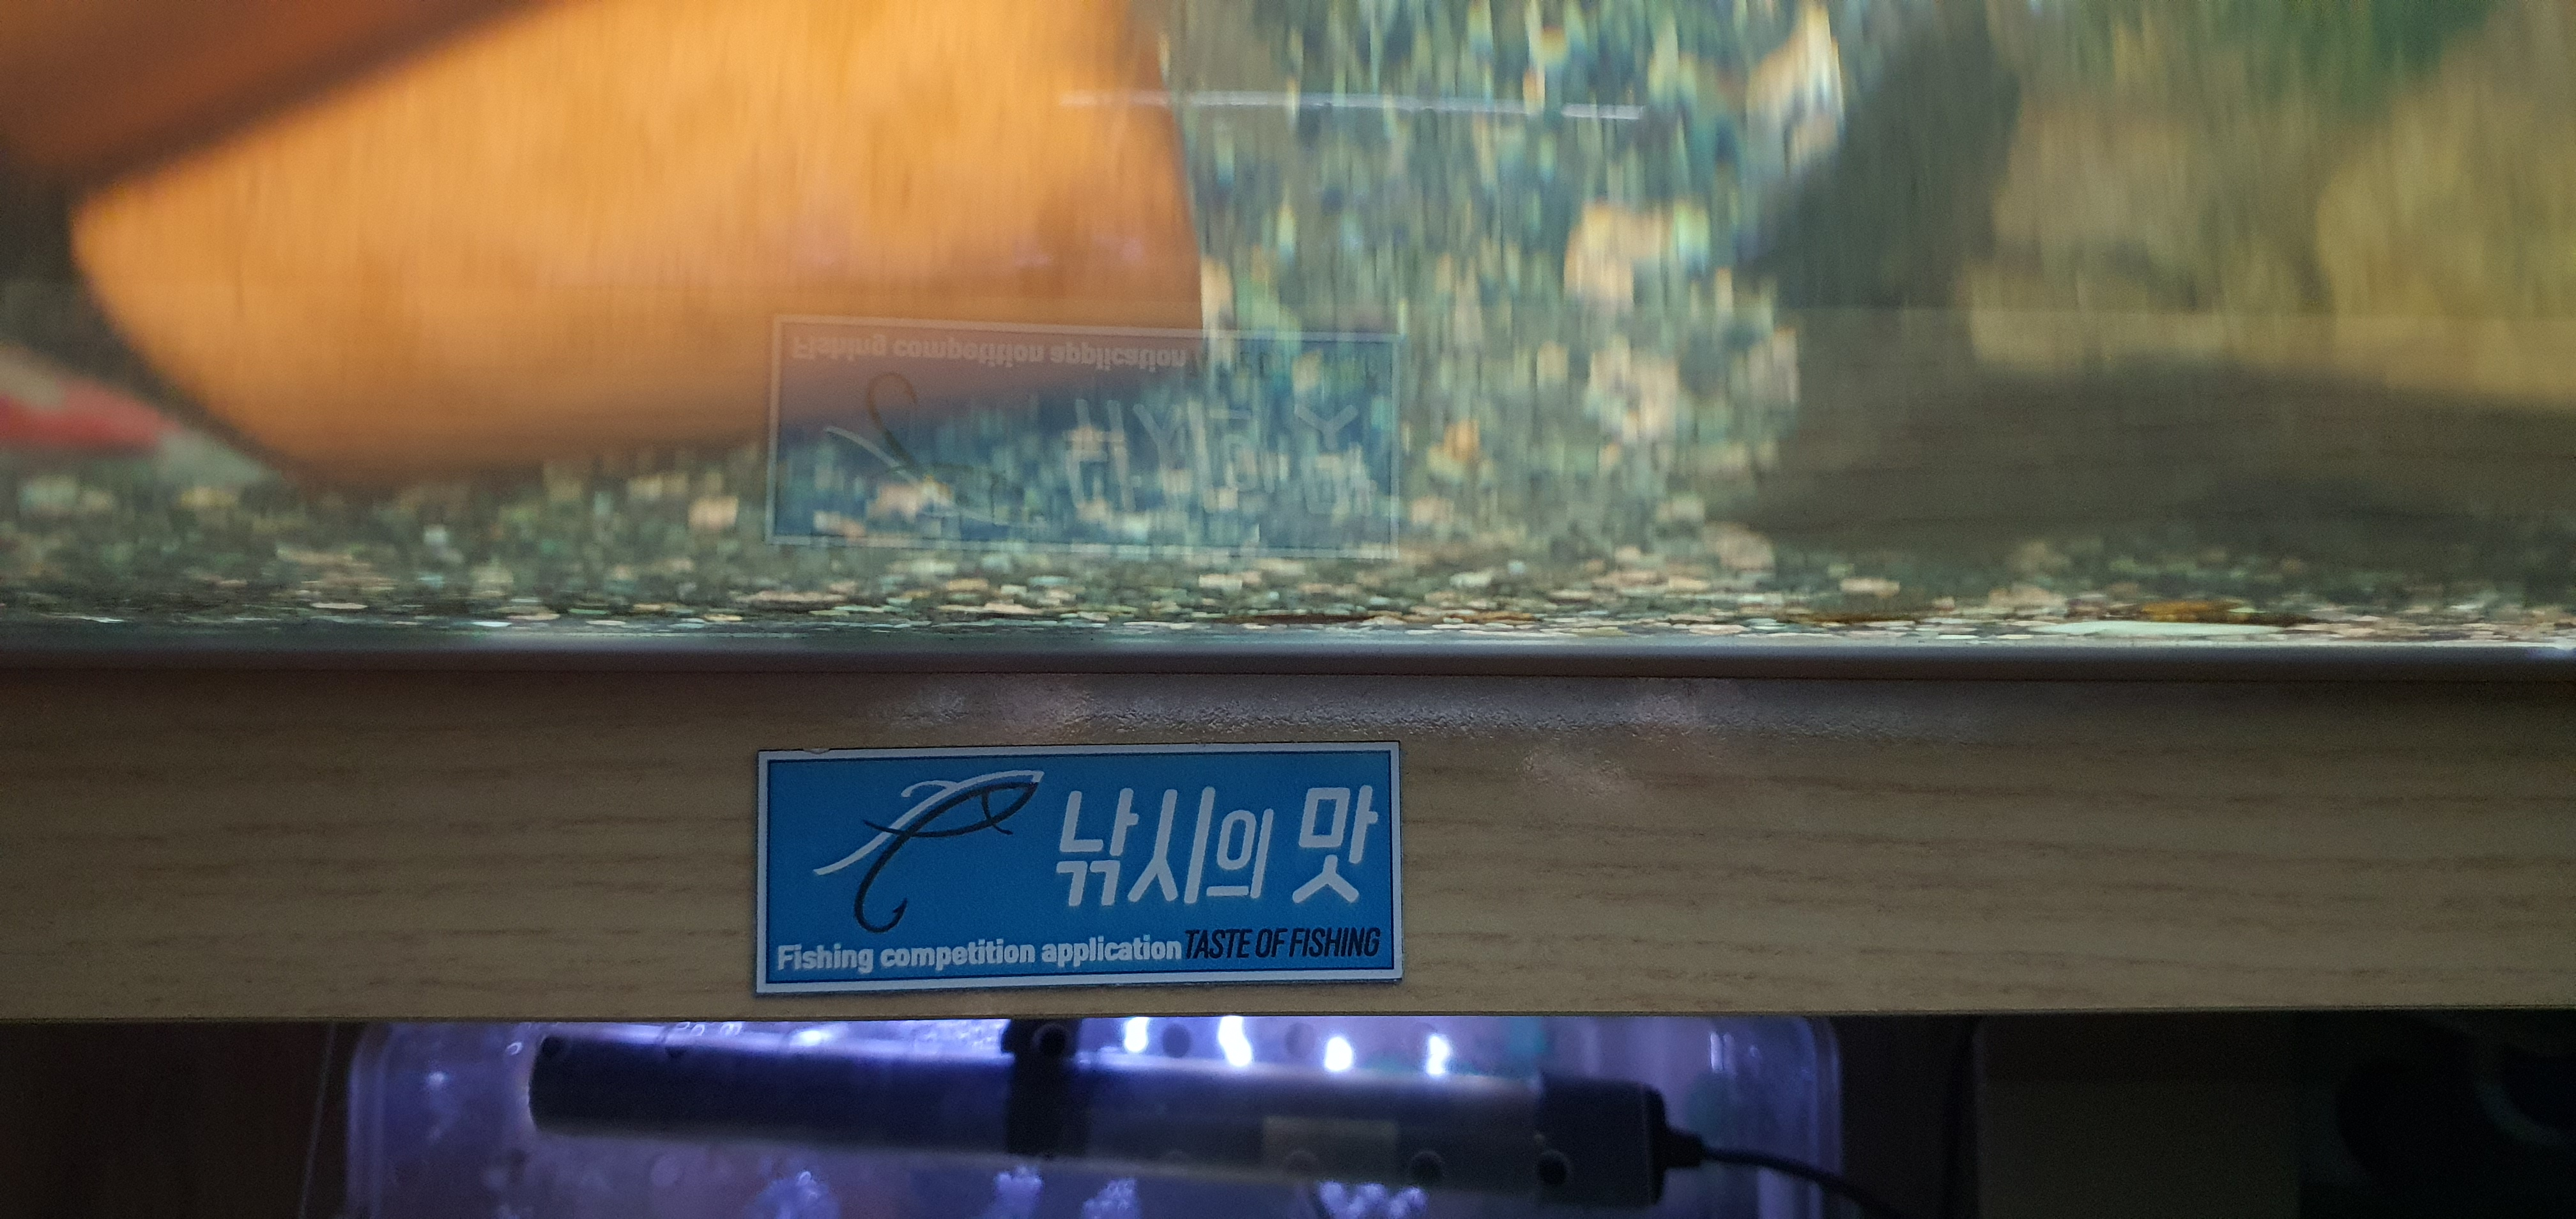tag: (761, 752, 1403, 981)
